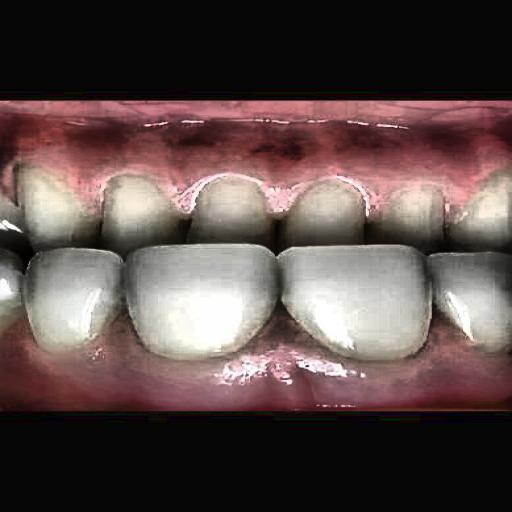Healthy: (12, 0, 512, 494)
